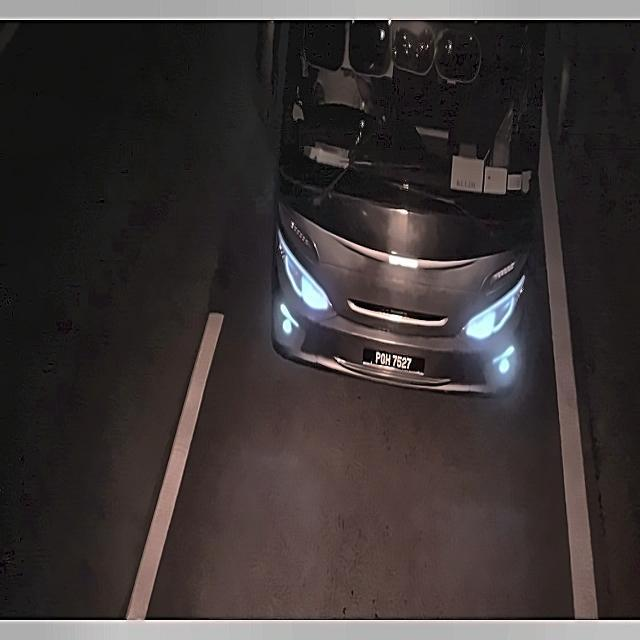car: (359, 338, 427, 386)
